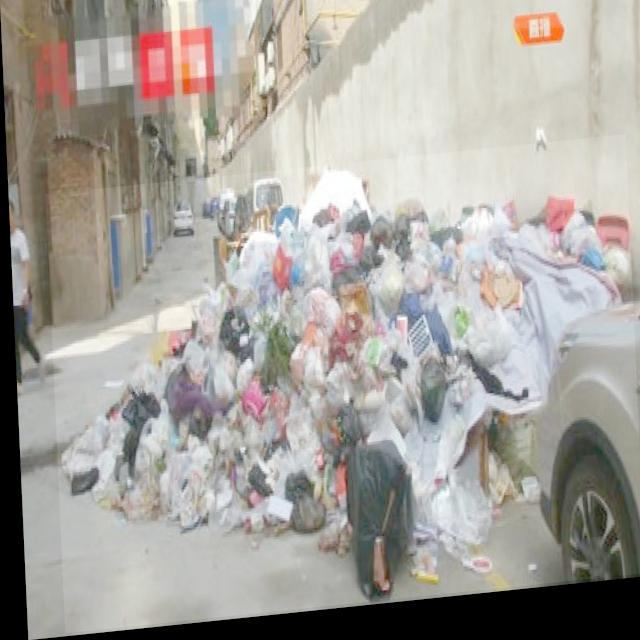garbage: (44, 148, 639, 634)
